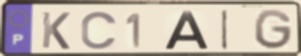1: (125, 12, 142, 49)
A: (162, 10, 211, 51)
C: (80, 10, 120, 51)
G: (253, 8, 295, 52)
I: (220, 8, 230, 52)
K: (40, 10, 72, 51)
